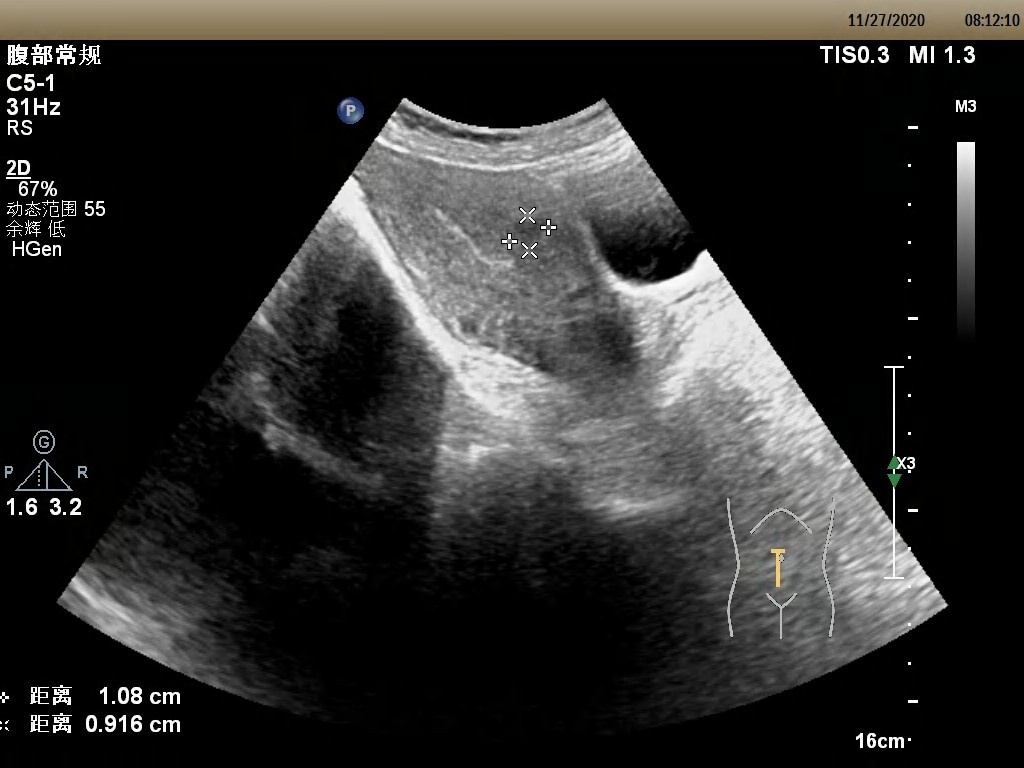肌瘤: (509, 216, 551, 252)
